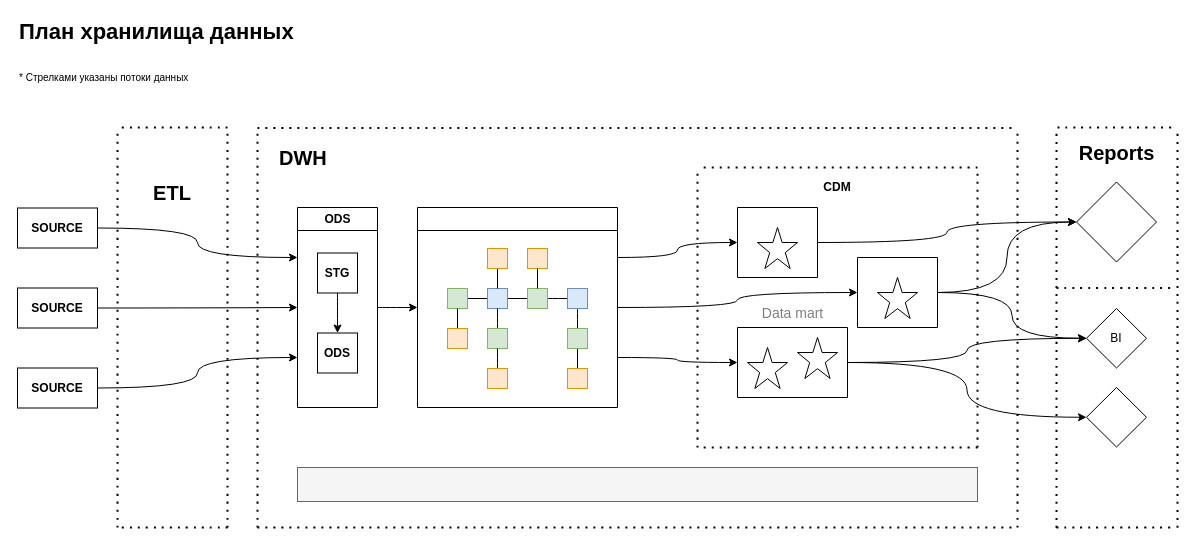
Some shapes in this 1197 by 547 pixel diagram are drawn without their labels. The shapes that lost their labels are listed below. From the top down, each one's box as (x1, y1, x2, y2) in pixels, then its label:
(1076, 181, 1156, 262): Плоские отчёты
(416, 206, 618, 408): DDS
(1086, 386, 1146, 447): Куб
(296, 466, 978, 502): SERVICE
